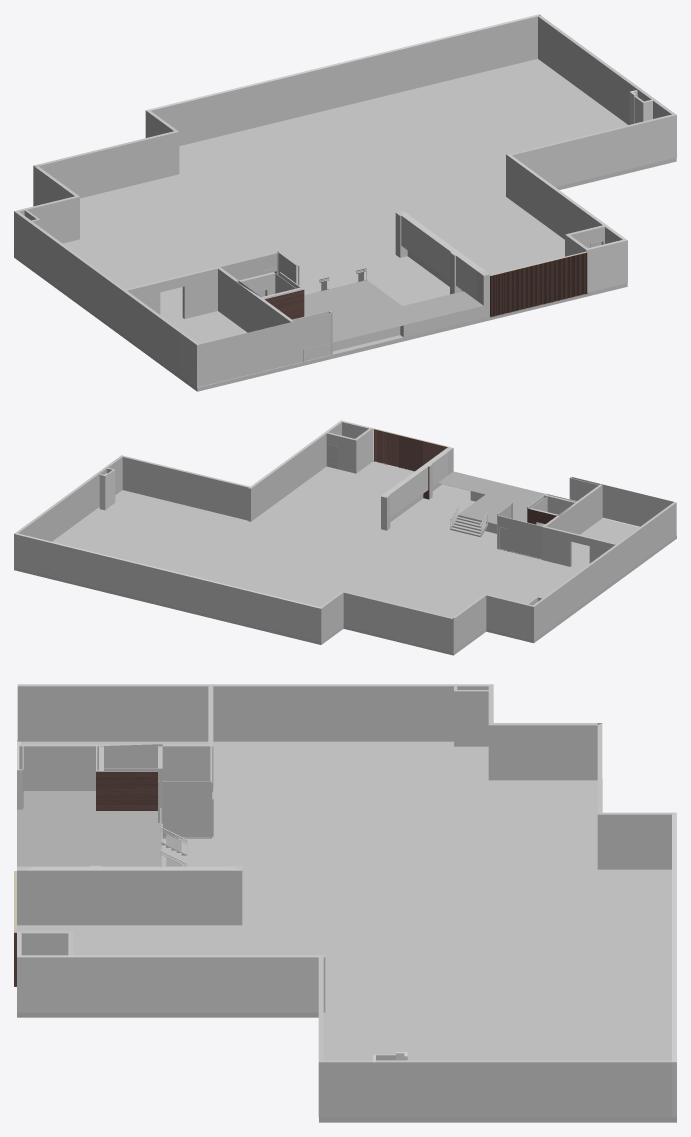
Rendered from 2222_ Building_ 1.glb.
The picture shows the model from 3 angles, top to bottom: view 1: azimuth 30°, elevation 25°; view 2: azimuth 150°, elevation 25°; view 3: azimuth 270°, elevation 25°; orthographic projection. The views are drawn at different scales.
Parts seen in each view (by area): view 1: Basement, CurtainP07.005; view 2: Basement, CurtainP07.005; view 3: Basement, CurtainP08.005.
Part boxes in pixels (x1=…): Basement: x1=14, y1=14, x2=676, y2=391; CurtainP07.005: x1=221, y1=254, x2=277, y2=296; Basement: x1=14, y1=420, x2=676, y2=655; CurtainP07.005: x1=498, y1=516, x2=541, y2=558; Basement: x1=14, y1=684, x2=676, y2=1122; CurtainP08.005: x1=163, y1=781, x2=210, y2=837.
Size of the model in its own units: 0.5381 by 0.0414 by 0.399.
11 materials, 3 textured.
